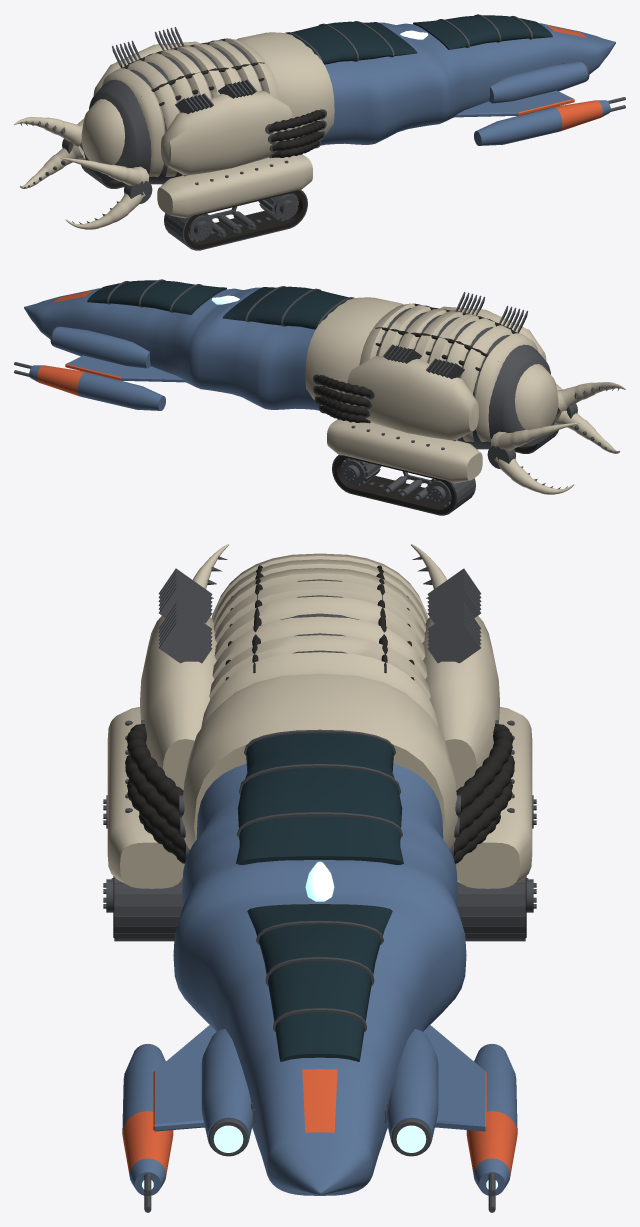
File: helix_blueprint.glb
3 renders of one model, top to bottom at view 1: azimuth 30°, elevation 25°; view 2: azimuth 150°, elevation 25°; view 3: azimuth 270°, elevation 25°, orthographic. The views are drawn at different scales.
Visible parts, largest first — view 1: Body_Hull.001, Body_Shoulder_-1.001, Body_Fender_-1.001, Body_Collar.001, Glass_CanopyAft.001, Body_Pod_-1.001, Detail_Hardware, Glass_CanopyFwd.001, Body_Nacelle_-1.001, Body_Maw.001, Prop_Track_Belt_-1.001, Body_Plate_0.001 (+22 smaller); view 2: Body_Hull.001, Body_Shoulder_+1.001, Body_Fender_+1.001, Body_Collar.001, Glass_CanopyAft.001, Body_Pod_+1.001, Detail_Hardware, Glass_CanopyFwd.001, Body_Nacelle_+1.001, Body_Maw.001, Prop_Track_Belt_+1.001, Body_Plate_0.001 (+22 smaller); view 3: Body_Hull.001, Glass_CanopyAft.001, Body_Collar.001, Glass_CanopyFwd.001, Detail_Hardware, Body_Shoulder_+1.001, Body_Shoulder_-1.001, Body_Fender_+1.001, Body_Fender_-1.001, Body_Pod_+1.001, Body_Pod_-1.001, Body_Plate_7.001 (+20 smaller).
Boxes of the visible parts, box(x1,y1,x2,y2) form: Body_Hull.001: box(84, 22, 615, 184); Body_Shoulder_-1.001: box(161, 91, 292, 175); Body_Fender_-1.001: box(157, 154, 312, 218); Body_Collar.001: box(237, 32, 334, 140); Glass_CanopyAft.001: box(287, 21, 416, 64); Body_Pod_-1.001: box(474, 100, 610, 145); Detail_Hardware: box(20, 27, 625, 224); Glass_CanopyFwd.001: box(413, 15, 552, 49); Body_Nacelle_-1.001: box(489, 61, 587, 103); Body_Maw.001: box(81, 99, 124, 173); Prop_Track_Belt_-1.001: box(184, 190, 306, 249); Body_Plate_0.001: box(101, 68, 165, 177); Body_Hull.001: box(24, 287, 555, 449); Body_Shoulder_+1.001: box(347, 356, 478, 440); Body_Fender_+1.001: box(327, 419, 482, 483); Body_Collar.001: box(305, 297, 402, 405); Glass_CanopyAft.001: box(223, 286, 352, 329); Body_Pod_+1.001: box(29, 365, 165, 410); Detail_Hardware: box(14, 292, 619, 489); Glass_CanopyFwd.001: box(87, 280, 226, 314); Body_Nacelle_+1.001: box(52, 326, 150, 368); Body_Maw.001: box(515, 364, 558, 438); Prop_Track_Belt_+1.001: box(333, 455, 455, 514); Body_Plate_0.001: box(474, 333, 538, 441); Body_Hull.001: box(173, 579, 466, 1195); Glass_CanopyAft.001: box(236, 733, 403, 865); Body_Collar.001: box(182, 673, 457, 849); Glass_CanopyFwd.001: box(247, 904, 392, 1061); Detail_Hardware: box(125, 556, 514, 1212); Body_Shoulder_+1.001: box(422, 616, 499, 790); Body_Shoulder_-1.001: box(140, 616, 217, 790); Body_Fender_+1.001: box(455, 707, 532, 888); Body_Fender_-1.001: box(107, 707, 184, 888); Body_Pod_+1.001: box(466, 1044, 517, 1195); Body_Pod_-1.001: box(122, 1044, 173, 1195); Body_Plate_7.001: box(201, 652, 438, 727).
Bounding box in the file's own units: 4.97 × 1.22 × 1.61.
